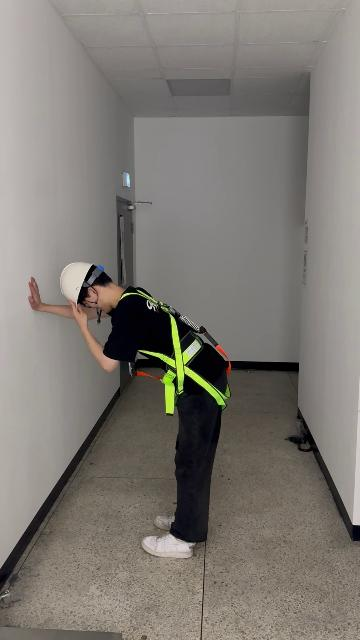helmet_worn: (61, 261, 115, 319)
shoe_not_worn: (138, 531, 198, 562), (153, 513, 182, 531)
vest_worn: (114, 288, 237, 409)
